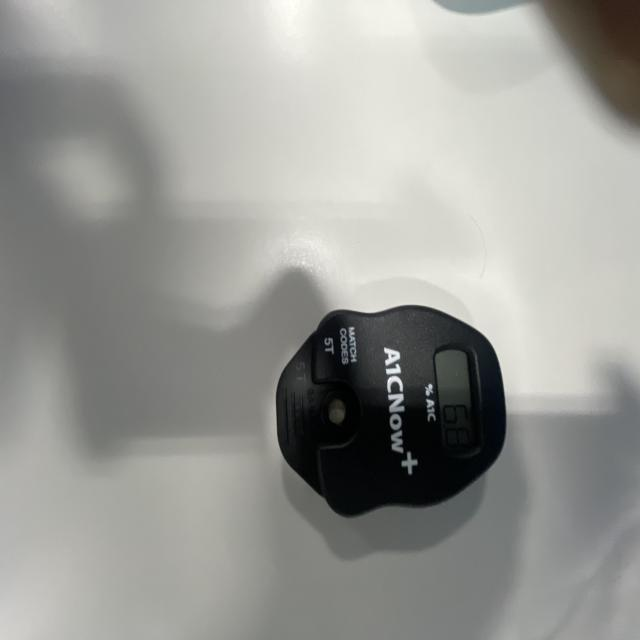hba1c: (274, 306, 508, 524)
